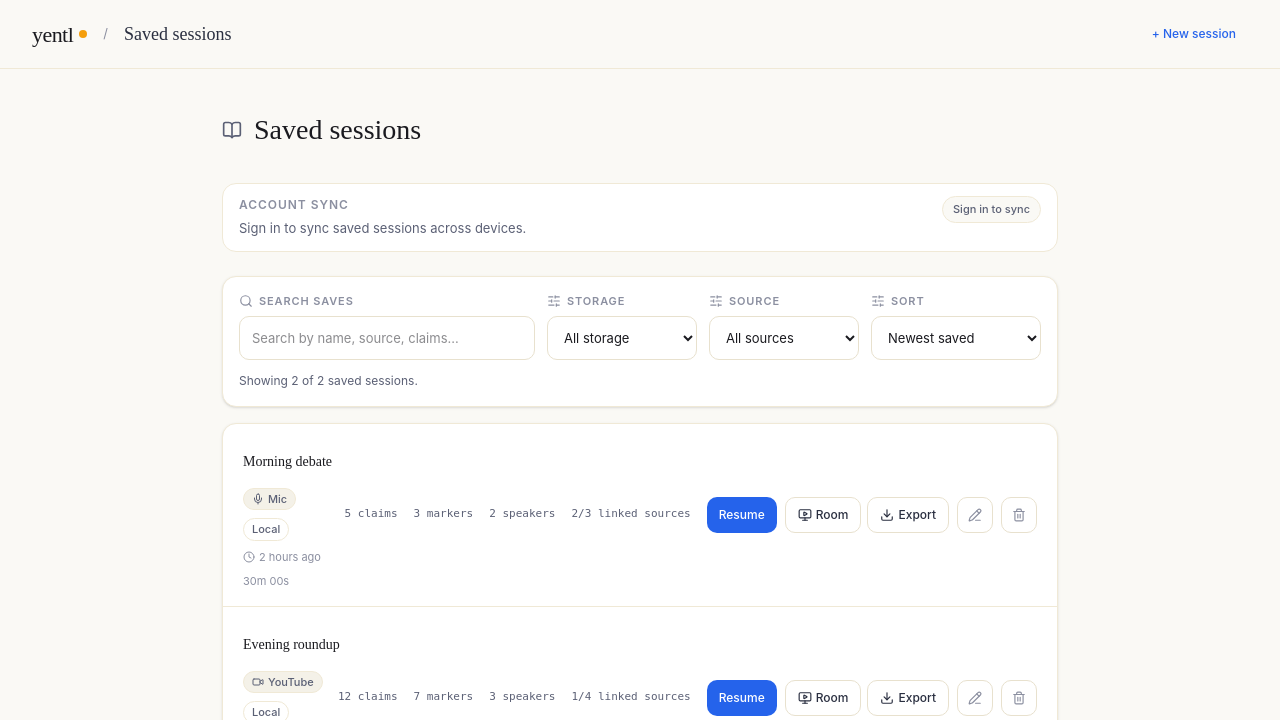
it: SessionsLibraryPage — with sessions › renders mobile-friendly export controls for saved sessions
Click the button with aria-label "Export session: Morning debate": {"x": 908, "y": 515} [868, 497, 949, 533]
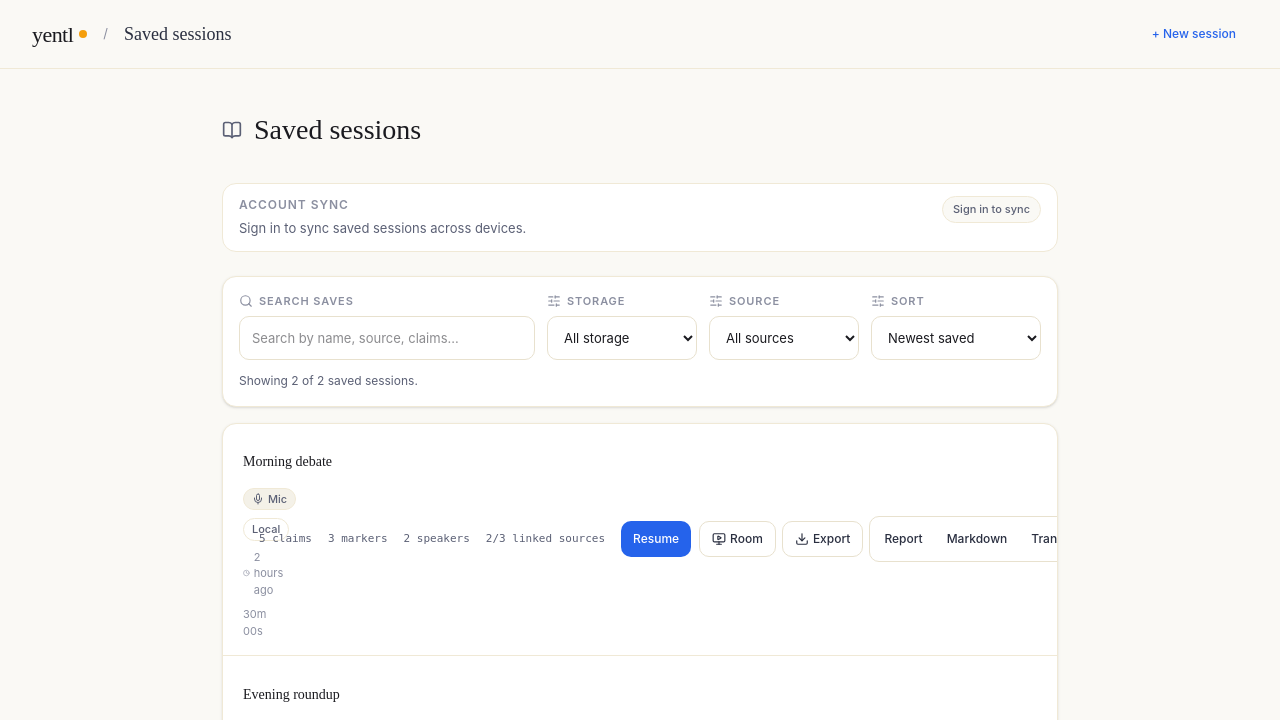
Expected: the button with aria-label "Export report: Morning debate" is shown, [874, 521, 933, 557]
Expected: the button with aria-label "Export Markdown: Morning debate" is shown, [937, 521, 1017, 557]
